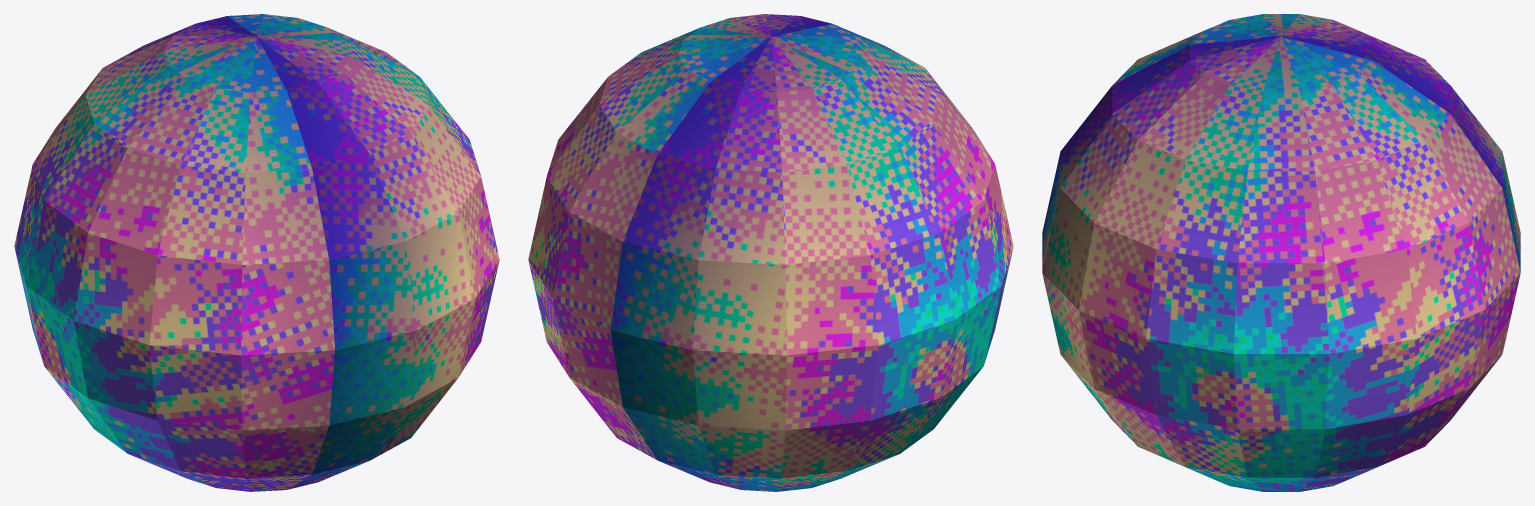
Rendered from PlanetFinal.fbx.
The picture shows the model from 3 angles, left to right: view 1: azimuth 30°, elevation 25°; view 2: azimuth 150°, elevation 25°; view 3: azimuth 270°, elevation 25°; orthographic projection.
Visible parts, largest first — view 1: FinalPlanet; view 2: FinalPlanet; view 3: FinalPlanet.
Boxes of the visible parts, x1=… form: FinalPlanet: x1=14, y1=14, x2=499, y2=491; FinalPlanet: x1=528, y1=14, x2=1013, y2=491; FinalPlanet: x1=1042, y1=14, x2=1520, y2=491.
Bounding box in the file's own units: 1088 × 1088 × 1088.
Materials: 1 (1 with a texture image).
